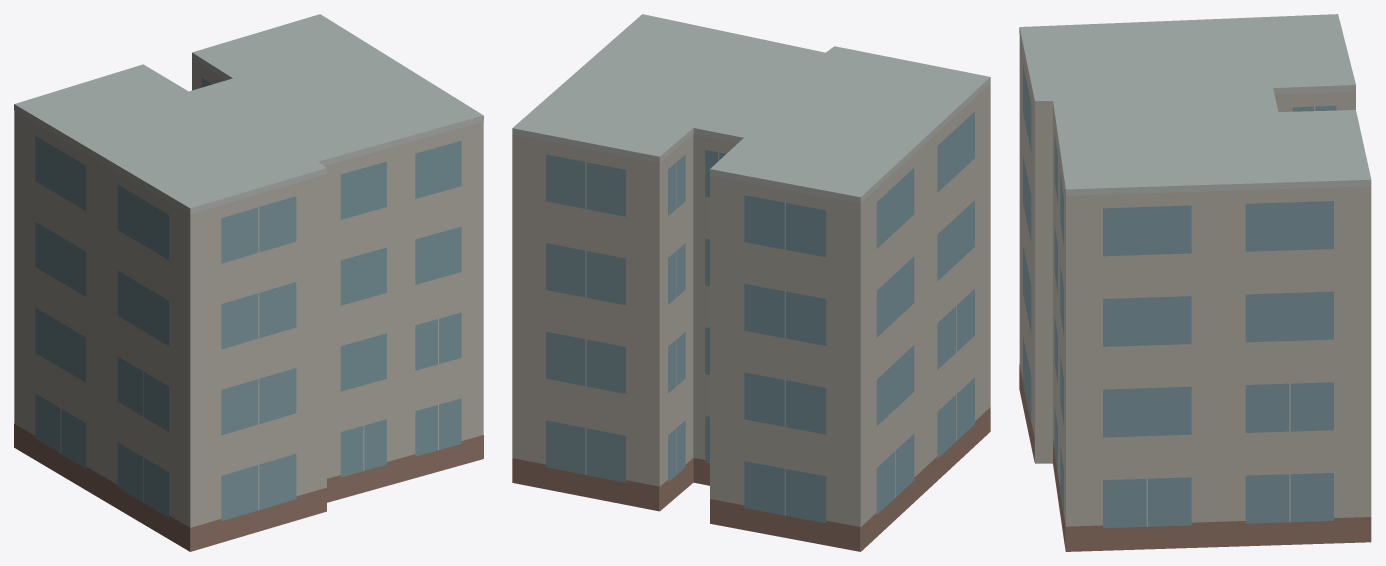
File: survey-upis-32986985.glb
3 renders of one model, left to right at view 1: azimuth 30°, elevation 25°; view 2: azimuth 150°, elevation 25°; view 3: azimuth 270°, elevation 25°, orthographic. The views are drawn at different scales.
Parts seen in each view (by area): view 1: survey-upis-32986985.tmp; view 2: survey-upis-32986985.tmp; view 3: survey-upis-32986985.tmp.
Boxes of the visible parts, bbox=[...] form: survey-upis-32986985.tmp: bbox=[14, 14, 483, 551]; survey-upis-32986985.tmp: bbox=[512, 14, 990, 551]; survey-upis-32986985.tmp: bbox=[1019, 14, 1371, 551].
Bounding box in the file's own units: 14.28 × 13.75 × 12.11.
